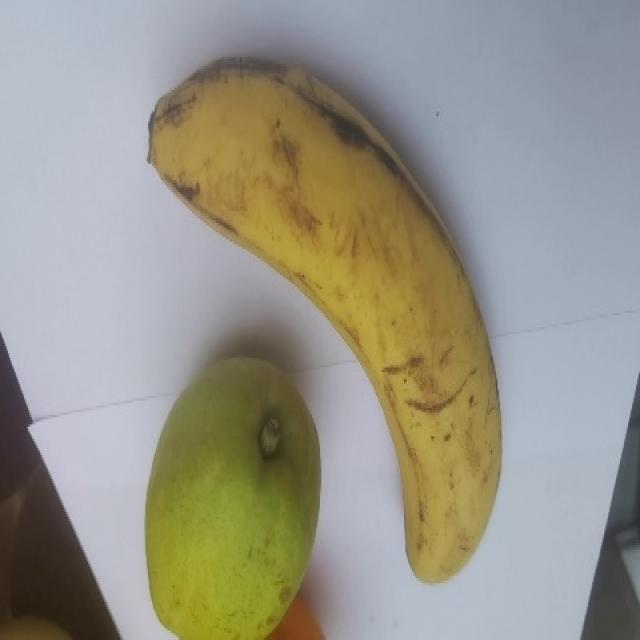Banana: (145, 54, 502, 584)
